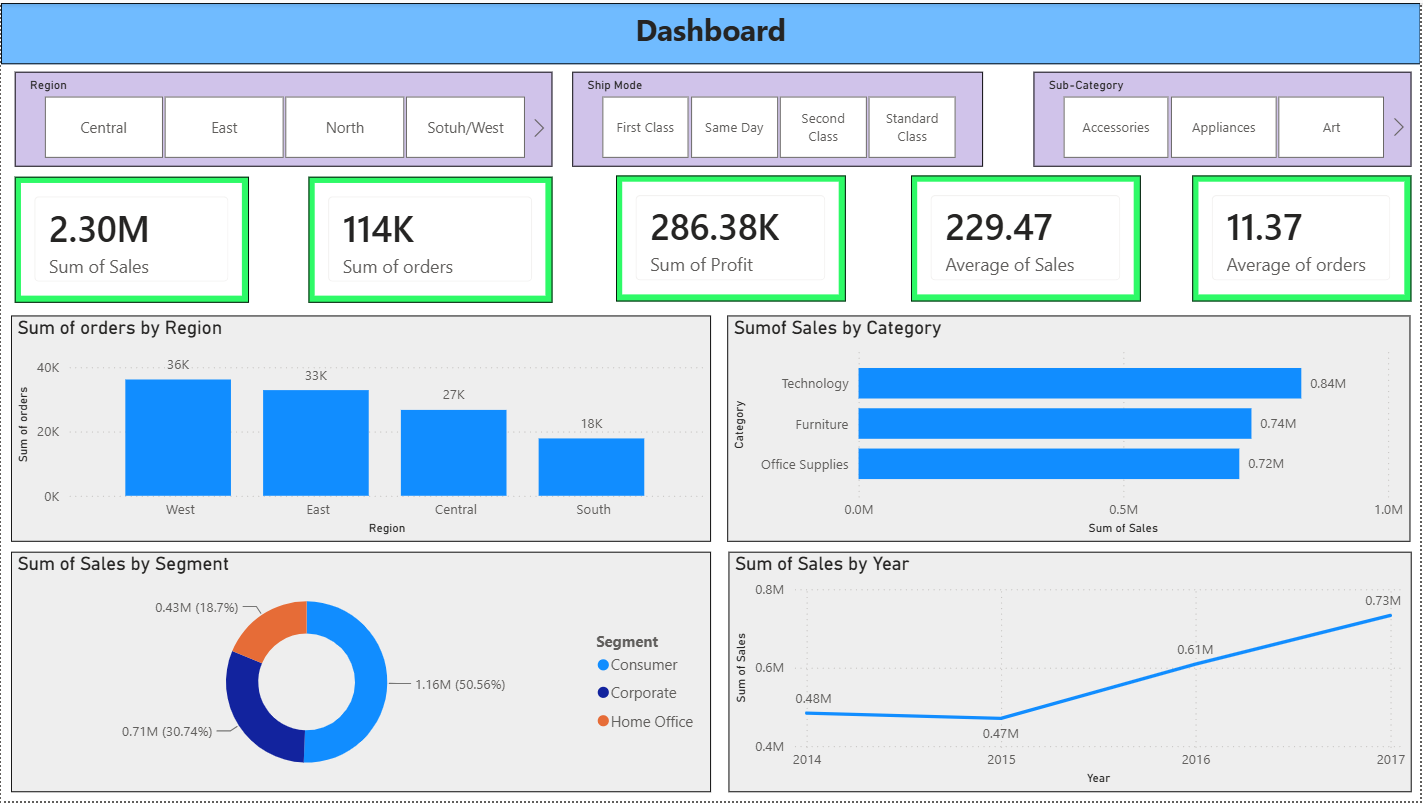

What the dashboard file says about the page in this screenshot:
{"tool":"powerbi","page":{"name":"overview","canvas":[1280,720],"ordinal":0},"visuals":[{"type":"cardVisual","fields":{"Data":["Sum(Sheet1.Sales)"]},"box":[12.5,156.2,211.2,113.8],"z":0},{"type":"textbox","box":[0,0,1280,55],"z":1000},{"type":"cardVisual","fields":{"Data":["Sum(Sheet1.orders)"]},"box":[277.5,156.2,220,113.8],"z":2000},{"type":"cardVisual","fields":{"Data":["Sum(Sheet1.Profit)"]},"box":[555,155,207.5,113.8],"z":3000},{"type":"cardVisual","fields":{"Data":["Avg(Sheet1.Sales)"]},"box":[820,155,207.5,113.8],"z":4000},{"type":"cardVisual","fields":{"Data":["Avg(Sheet1.orders)"]},"box":[1073.8,155,197.5,113.8],"z":5000},{"type":"barChart","title":"Sumof Sales by Category","fields":{"Y":["Sum(Sheet1.Sales)"],"Category":["Sheet1.Category"]},"box":[655,281.2,616.2,203.8],"z":6000},{"type":"clusteredColumnChart","fields":{"Category":["Sheet1.Region"],"Y":["Sum(Sheet1.orders)"]},"box":[8.8,281.2,631.2,203.8],"z":7000},{"type":"donutChart","fields":{"Category":["Sheet1.Segment"],"Y":["Sum(Sheet1.Sales)"]},"box":[8.6,495.2,631,216.4],"z":8000},{"type":"lineChart","fields":{"Category":["Sheet1.Order Date.Variation.Date Hierarchy.Year","Sheet1.Order Date.Variation.Date Hierarchy.Quarter","Sheet1.Order Date.Variation.Date Hierarchy.Month","Sheet1.Order Date.Variation.Date Hierarchy.Day"],"Y":["Sum(Sheet1.Sales)"]},"box":[655.4,495.2,616.3,216.4],"z":9000},{"type":"slicer","fields":{"Values":["Sheet1.Ship Mode"]},"box":[514.8,62.4,370.5,85.6],"z":9002},{"type":"slicer","fields":{"Values":["Sheet1.Sub-Category"]},"box":[930.6,62.4,341.2,85.6],"z":9003},{"type":"slicer","fields":{"Values":["Sheet1.Region"]},"box":[8.6,62.4,485.5,85.6],"z":9004}]}

Visuals, with their boxes in screenshot pixels (x1, y1, x2, y2), scaled from the page's 1280x720 canvas onto the 1423x806 screenshot:
cardVisual - Sum(Sheet1.Sales): 14 175 249 302
textbox: 0 0 1422 62
cardVisual - Sum(Sheet1.orders): 309 175 553 302
cardVisual - Sum(Sheet1.Profit): 617 174 848 301
cardVisual - Avg(Sheet1.Sales): 912 174 1142 301
cardVisual - Avg(Sheet1.orders): 1194 174 1413 301
"Sumof Sales by Category" barChart: 728 315 1413 543
clusteredColumnChart - Sheet1.Region x Sum(Sheet1.orders): 10 315 712 543
donutChart - Sheet1.Segment x Sum(Sheet1.Sales): 10 554 711 797
lineChart - Sheet1.Order Date.Variation.Date Hierarchy.Year x Sheet1.Order Date.Variation.Date Hierarchy.Quarter: 729 554 1414 797
slicer - Sheet1.Ship Mode: 572 70 984 166
slicer - Sheet1.Sub-Category: 1035 70 1414 166
slicer - Sheet1.Region: 10 70 549 166
